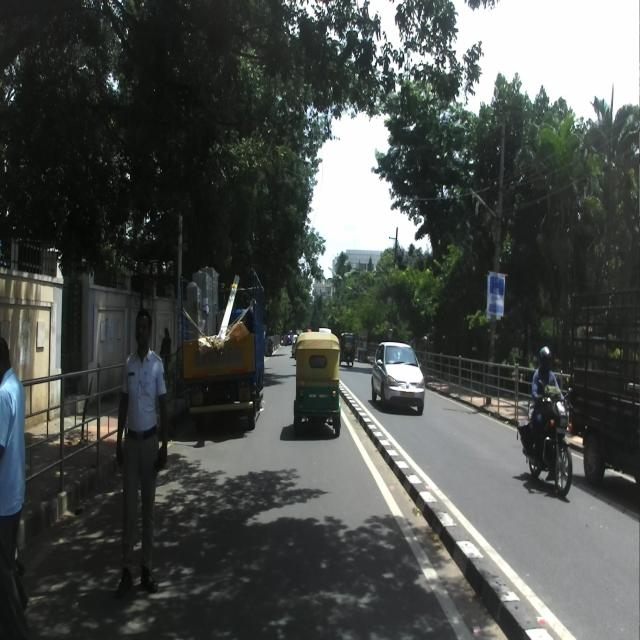Car_TATA: (370, 338, 426, 417)
autorickshaw: (292, 327, 342, 436)
motorcycle_Hero: (516, 378, 572, 497)
truck: (180, 258, 264, 428)
